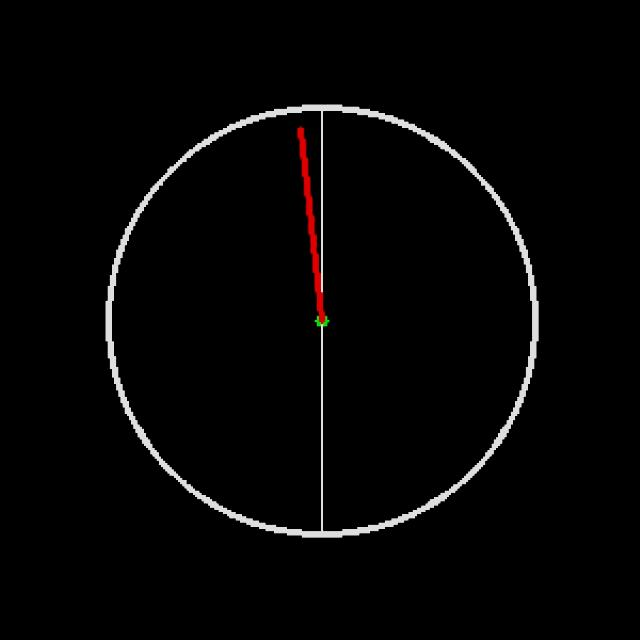Needle_Tip: (279, 113, 326, 154)
Needle_base: (299, 285, 361, 358)
